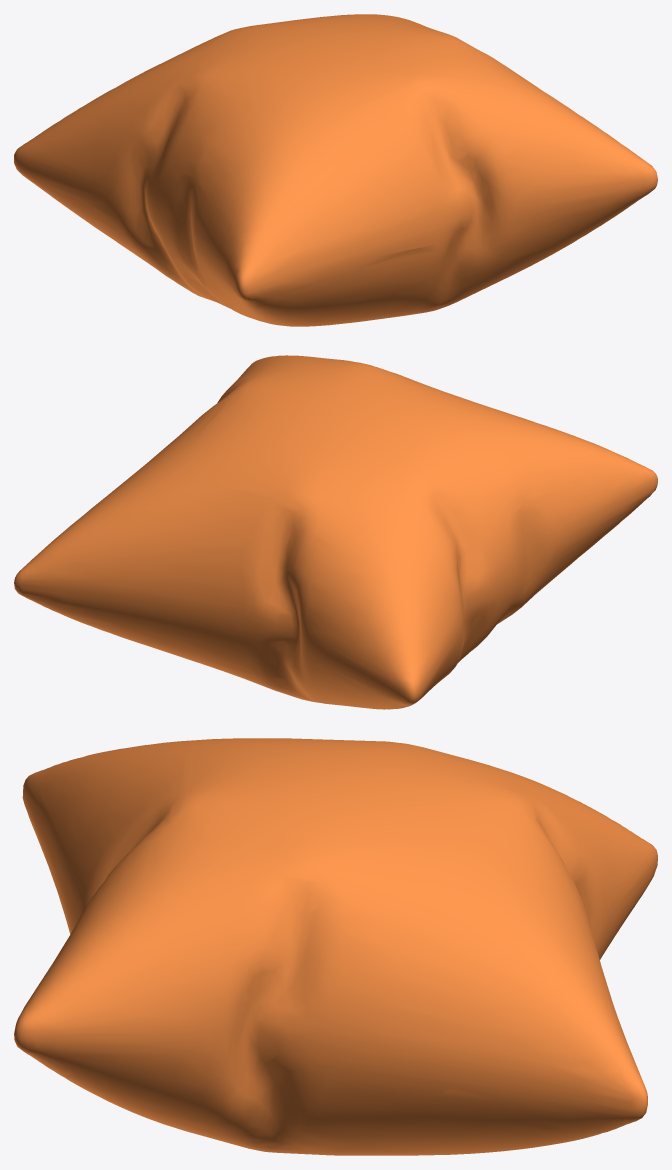
File: Almohada.fbx
The picture shows the model from 3 angles, top to bottom: view 1: azimuth 30°, elevation 25°; view 2: azimuth 150°, elevation 25°; view 3: azimuth 270°, elevation 25°; orthographic projection. The views are drawn at different scales.
Parts seen in each view (by area): view 1: Plane.001; view 2: Plane.001; view 3: Plane.001.
Boxes of the visible parts, x1,y1,x2,y2 form: Plane.001: (14,14,657,326); Plane.001: (14,355,657,709); Plane.001: (14,738,657,1155).
Size of the model in its own units: 5.84 by 3.36 by 5.81.
